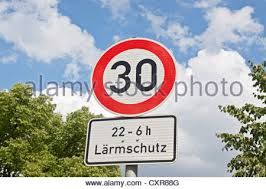Speed_limit_30km: (92, 38, 177, 115)
